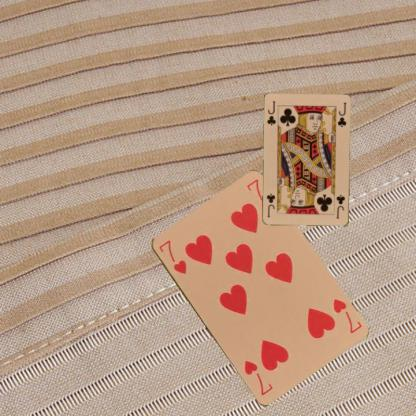7h: (155, 237, 188, 275), (330, 296, 363, 334)
Jc: (264, 99, 276, 127), (334, 193, 346, 220)
